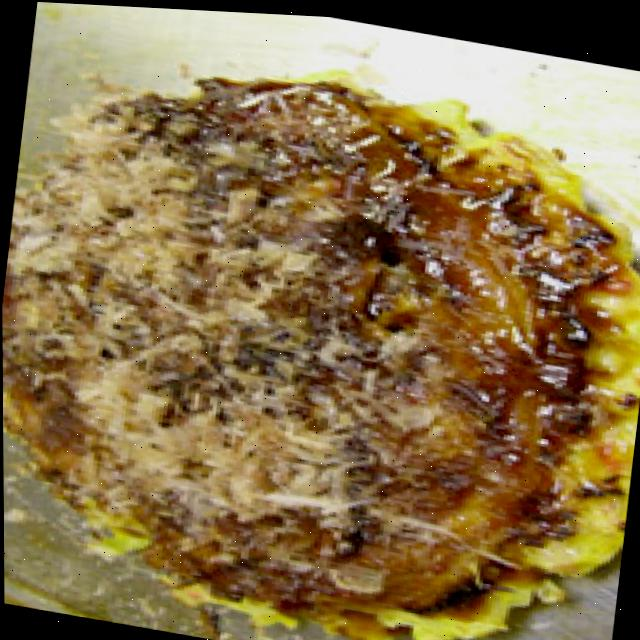蛋糕甜品: (0, 31, 640, 640)
